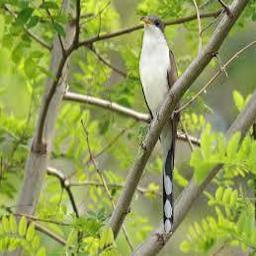Cuckoo: (138, 16, 181, 235)
